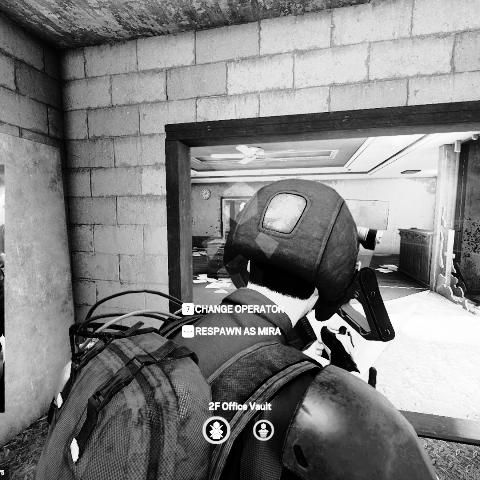Character: (31, 176, 441, 480)
Head: (225, 178, 366, 333)
